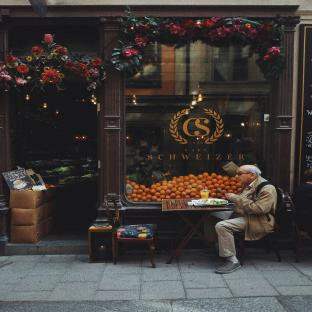Human: (205, 165, 277, 273)
